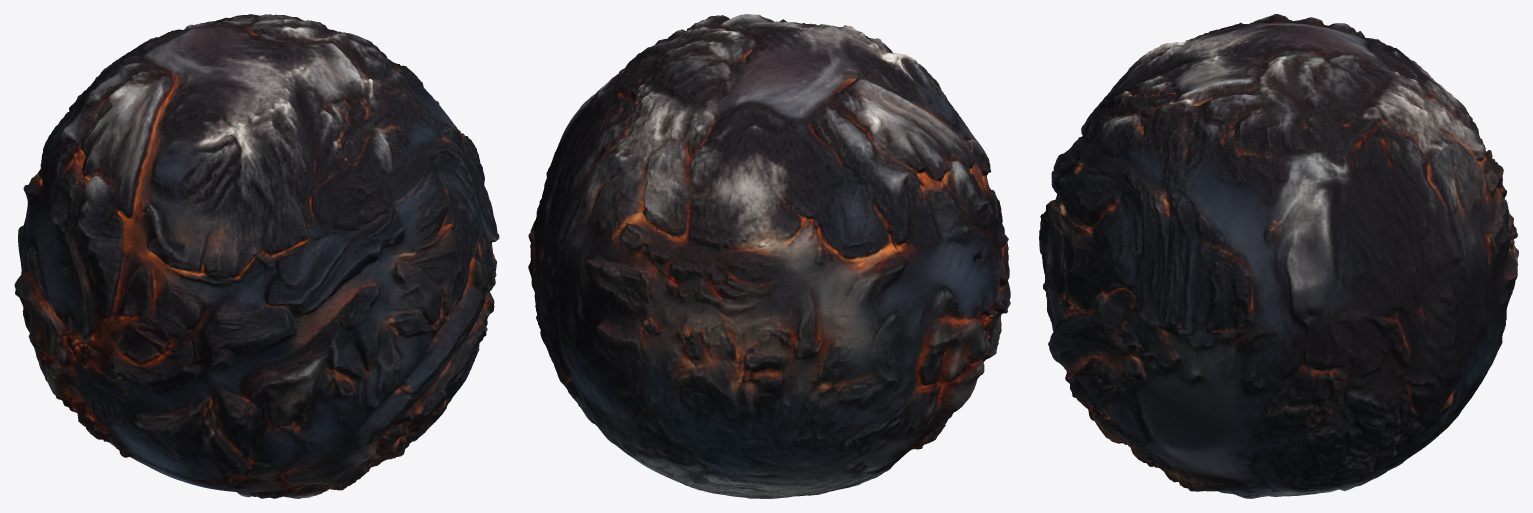
3 views of the same model, side by side, from view 1: azimuth 30°, elevation 25°; view 2: azimuth 150°, elevation 25°; view 3: azimuth 270°, elevation 25° (orthographic).
Visible parts, largest first — view 1: world; view 2: world; view 3: world.
Part boxes in pixels (x1,y1,x2,y2): world: (14, 14, 499, 498); world: (528, 14, 1010, 498); world: (1039, 14, 1518, 498).
Bounding box in the file's own units: 1 × 0.9994 × 1.
1 material, 1 textured.
